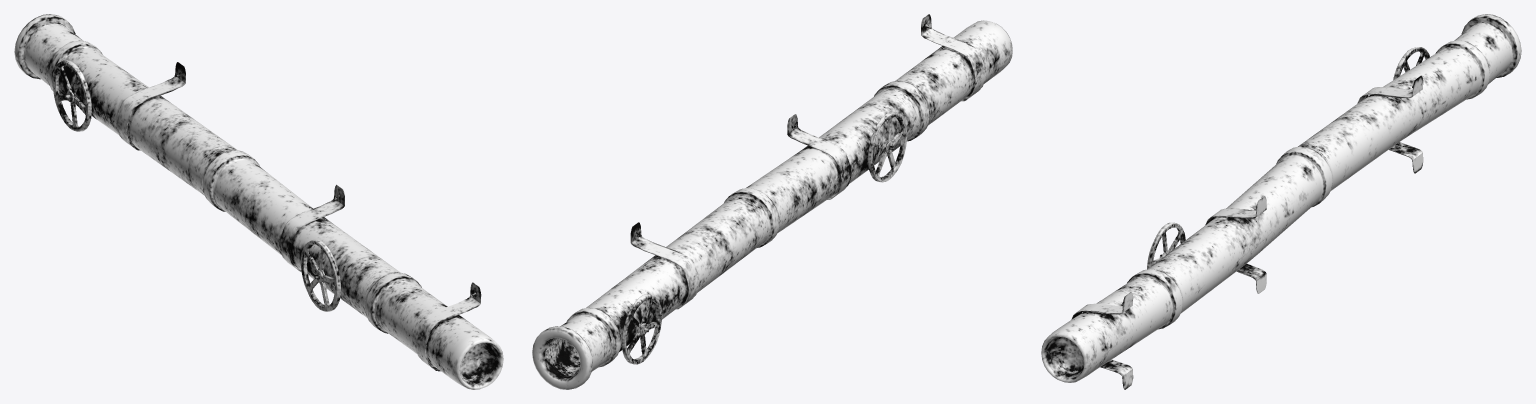
The model's file is SM_Pipe_01.fbx.
The picture shows the model from 3 angles, left to right: view 1: azimuth 30°, elevation 25°; view 2: azimuth 150°, elevation 25°; view 3: azimuth 330°, elevation 25°; orthographic projection.
Parts seen in each view (by area): view 1: SM_Pipe_01; view 2: SM_Pipe_01; view 3: SM_Pipe_01.
Part boxes in pixels (<box>): SM_Pipe_01: <box>14,14,503,389</box>; SM_Pipe_01: <box>532,14,1012,389</box>; SM_Pipe_01: <box>1041,14,1521,389</box>.
Bounding box in the file's own units: 25.33 × 300 × 38.22.
Materials: 1 (1 with a texture image).
